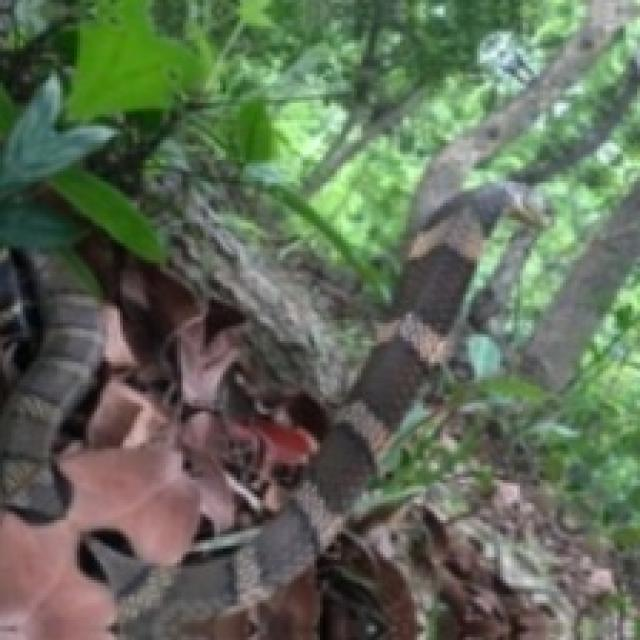king cobra: (117, 206, 480, 637), (420, 509, 549, 637)
